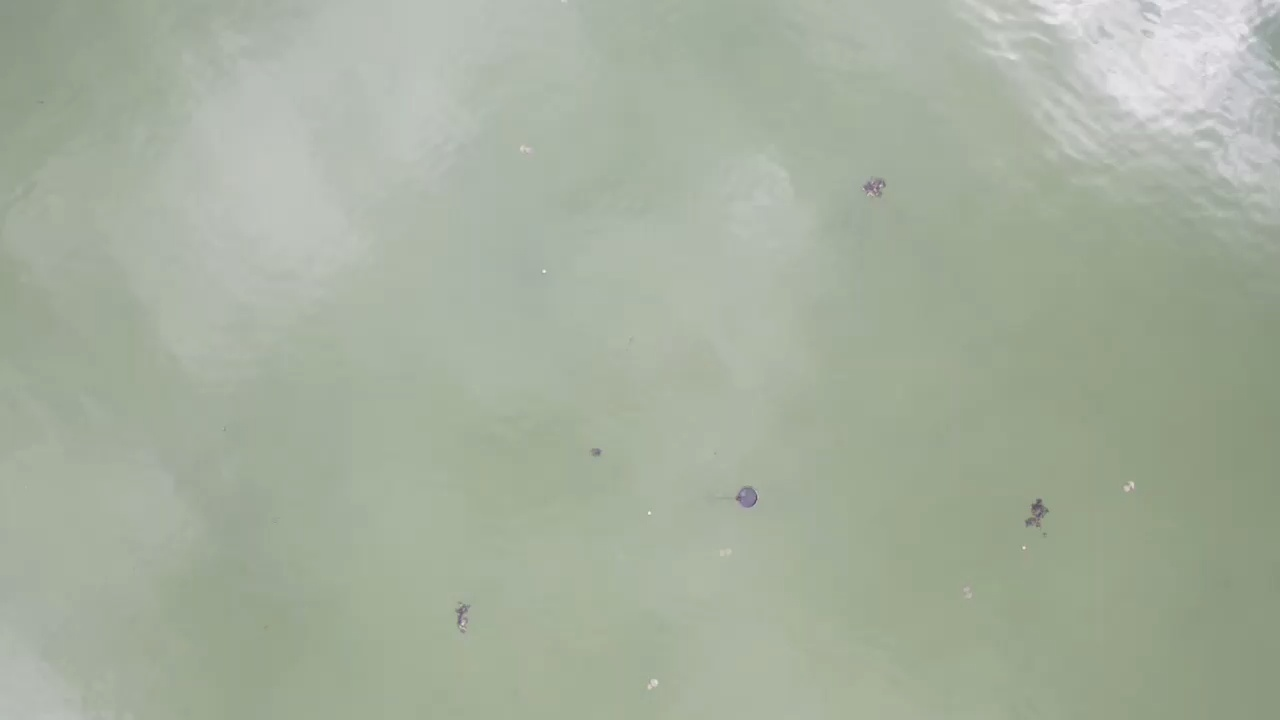meduse: (516, 144, 533, 155), (645, 678, 659, 690), (718, 547, 733, 558), (1121, 481, 1136, 491), (961, 586, 972, 598)
